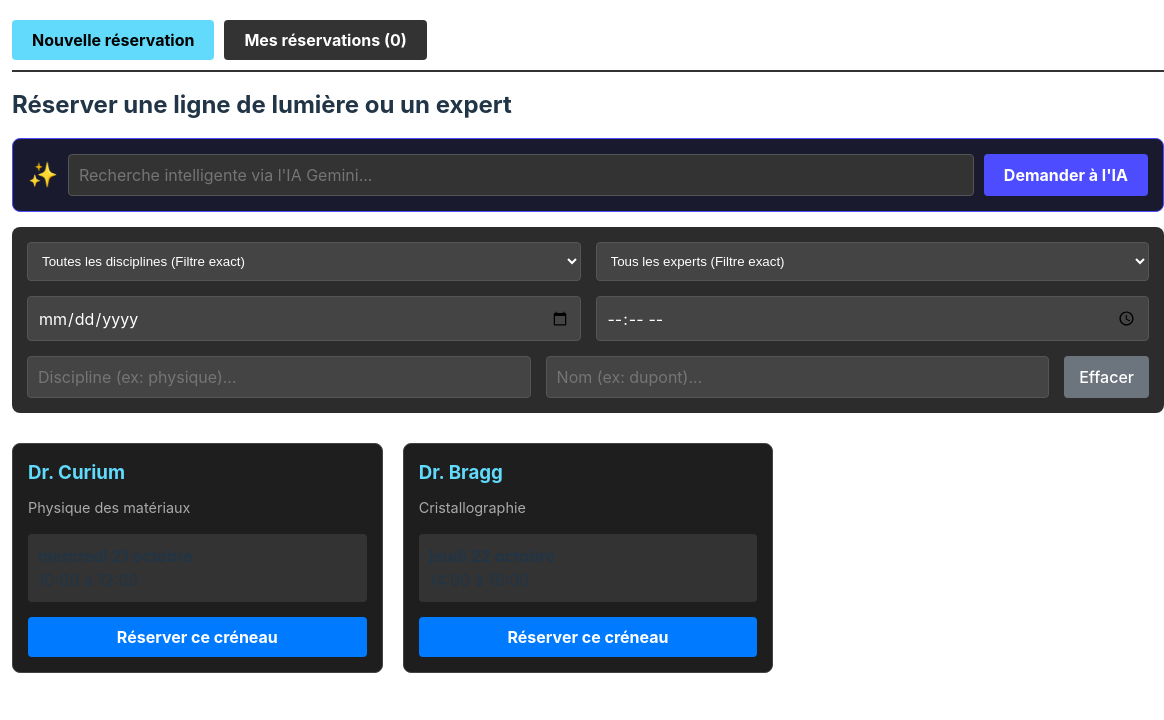
Composant BookingTunnel › filtre correctement les créneaux via le calendrier natif HTML5
The image size is (1164, 720).
Check: the heading "Dr. Curium" is shown, box [28,461,125,484]
Check: the heading "Dr. Bragg" is shown, box [419,461,503,484]
// On filtre sur le 21 octobre 2026 (Date de Dr. Curium)
Type "2026-10-21" into the date field named "Choisir une date précise". click: point(304, 319)
box: [27,296,580,341]
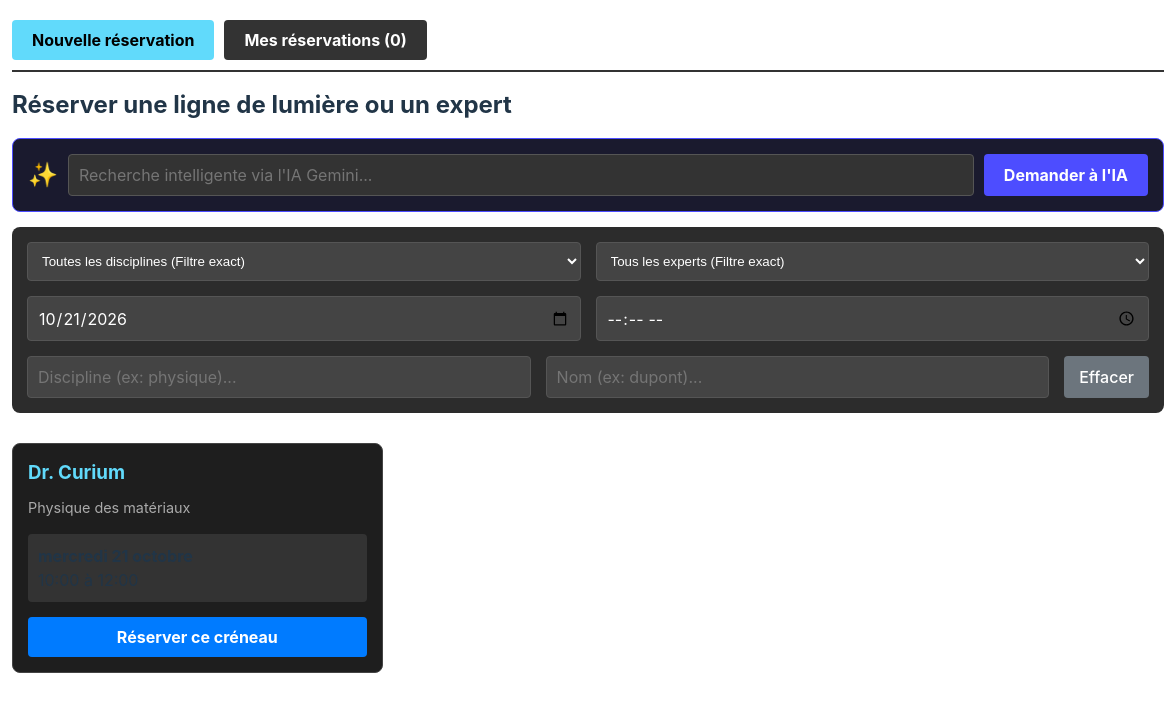
Check: the heading "Dr. Curium" is shown, box [28,461,125,484]
Check: the heading "Dr. Bragg" is gone
